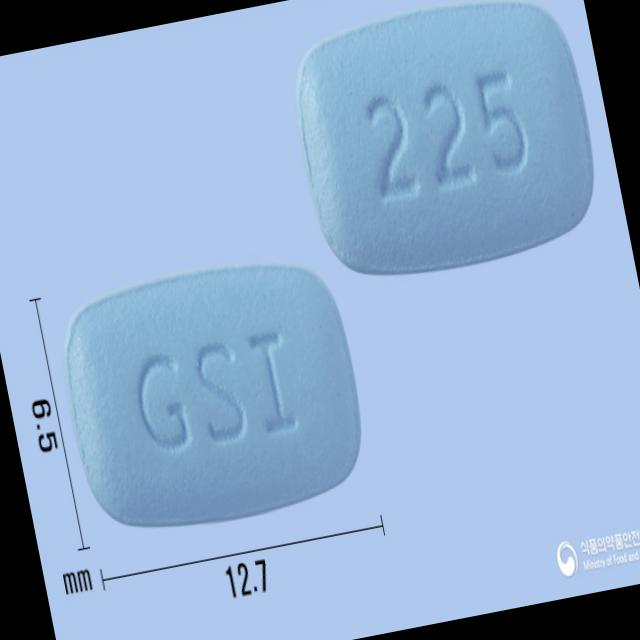Descovy: (48, 239, 382, 550), (276, 0, 612, 292)
